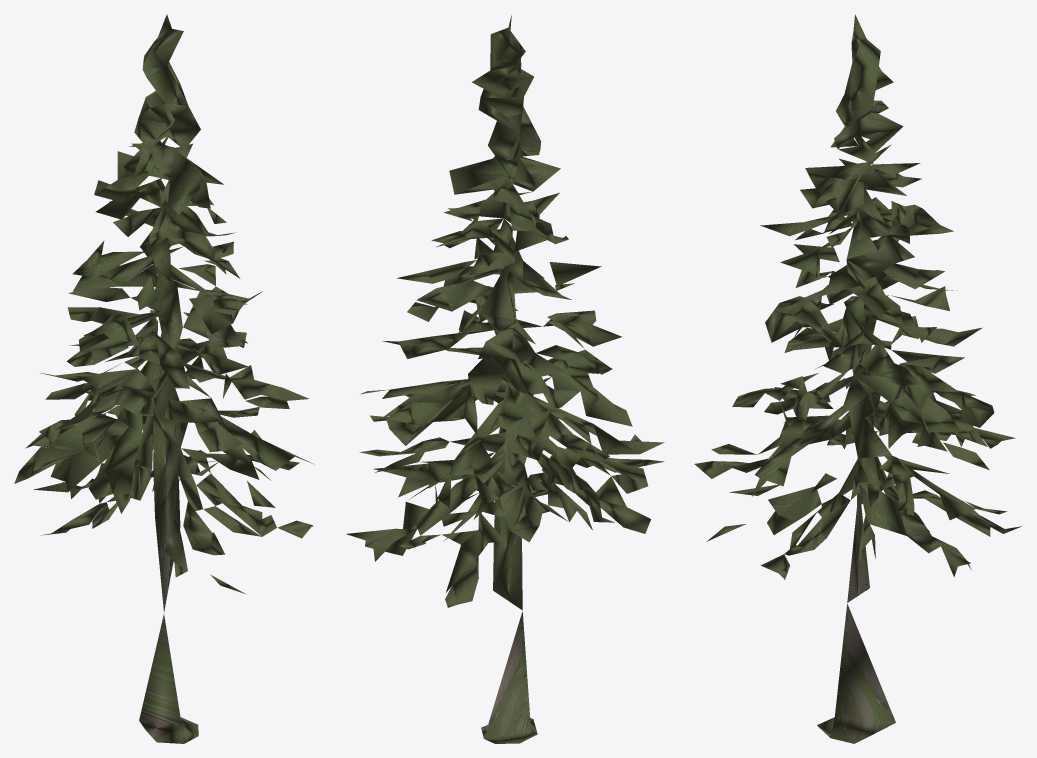
Rendered from pine-tree-lo.glb.
3 renders of one model, left to right at view 1: azimuth 30°, elevation 25°; view 2: azimuth 150°, elevation 25°; view 3: azimuth 270°, elevation 25°, orthographic.
Visible parts, largest first — view 1: mesh_node; view 2: mesh_node; view 3: mesh_node.
Boxes of the visible parts, bbox=[...] form: mesh_node: bbox=[14, 14, 314, 743]; mesh_node: bbox=[346, 15, 664, 743]; mesh_node: bbox=[694, 14, 1021, 743].
Bounding box in the file's own units: 0.6989 × 1.8 × 0.751.
Materials: 1 (1 with a texture image).
